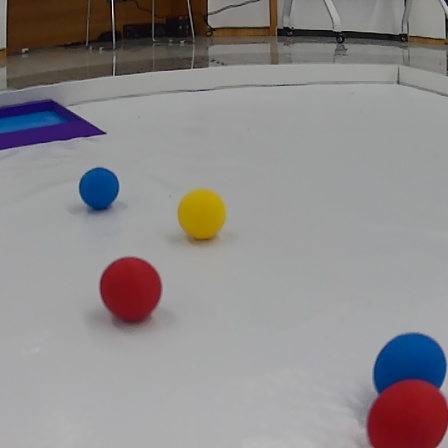blue: (371, 329, 446, 395), (79, 165, 122, 211)
blue_aim: (0, 97, 109, 152)
red: (361, 376, 448, 448), (96, 256, 164, 321)
yellow: (176, 186, 227, 243)
